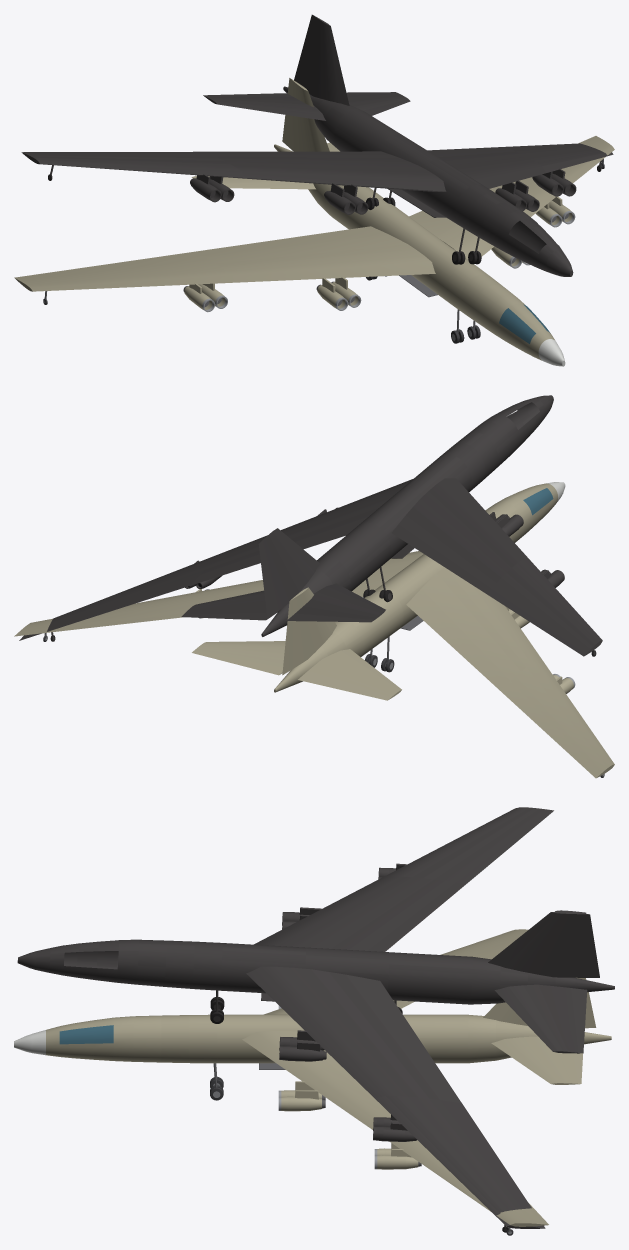
The model's file is bomber__b_52h_stratofortress.glb.
The picture shows the model from 3 angles, top to bottom: view 1: azimuth 30°, elevation 25°; view 2: azimuth 150°, elevation 25°; view 3: azimuth 270°, elevation 25°; orthographic projection. The views are drawn at different scales.
Parts seen in each view (by area): view 1: Wreck, Fuselage_Mesh; view 2: Wreck, Fuselage_Mesh; view 3: Wreck, Fuselage_Mesh.
Part boxes in pixels (x1=…): Wreck: x1=21, y1=14, x2=613, y2=276; Fuselage_Mesh: x1=14, y1=78, x2=614, y2=366; Wreck: x1=19, y1=395, x2=602, y2=656; Fuselage_Mesh: x1=14, y1=482, x2=614, y2=778; Wreck: x1=17, y1=807, x2=614, y2=1232; Fuselage_Mesh: x1=14, y1=929, x2=611, y2=1235.
Size of what is drawn, in the model's own units: 56.4 by 17.57 by 48.77.
